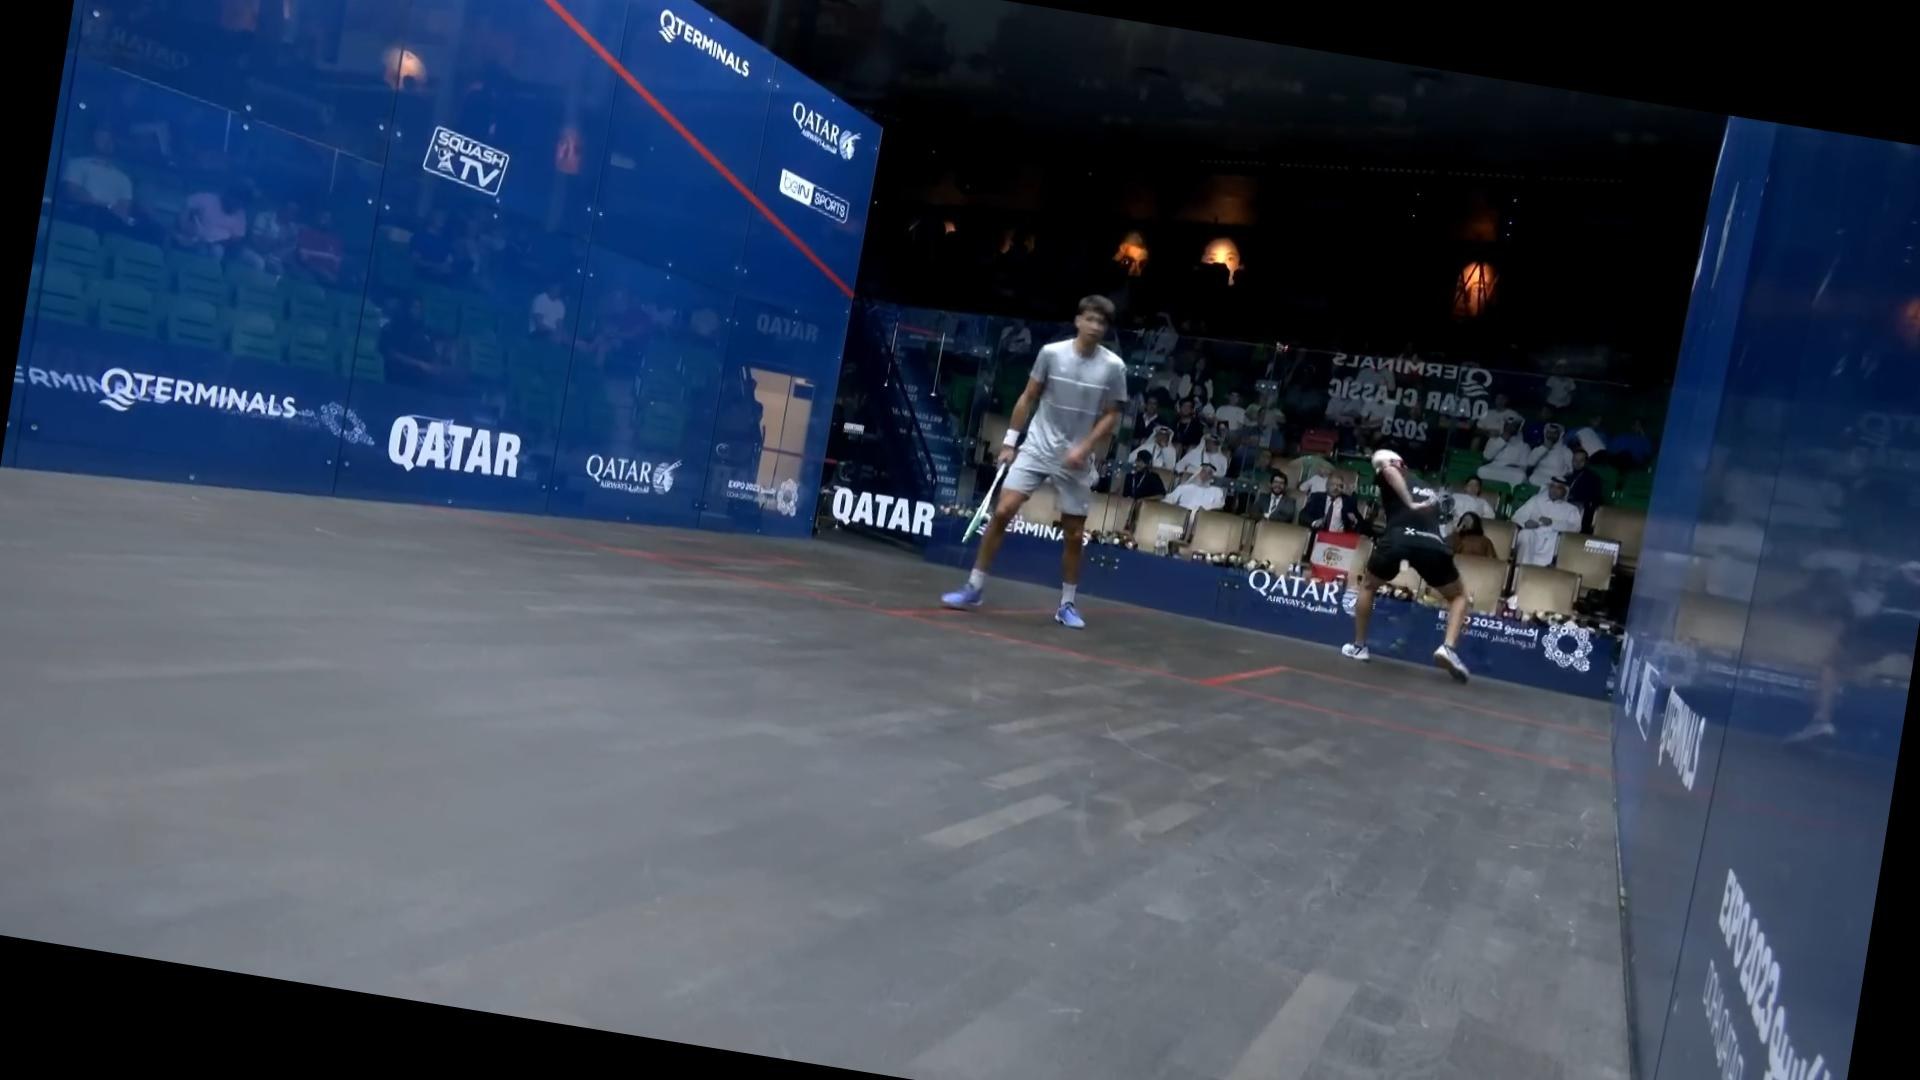Racket: (953, 454, 1018, 550)
